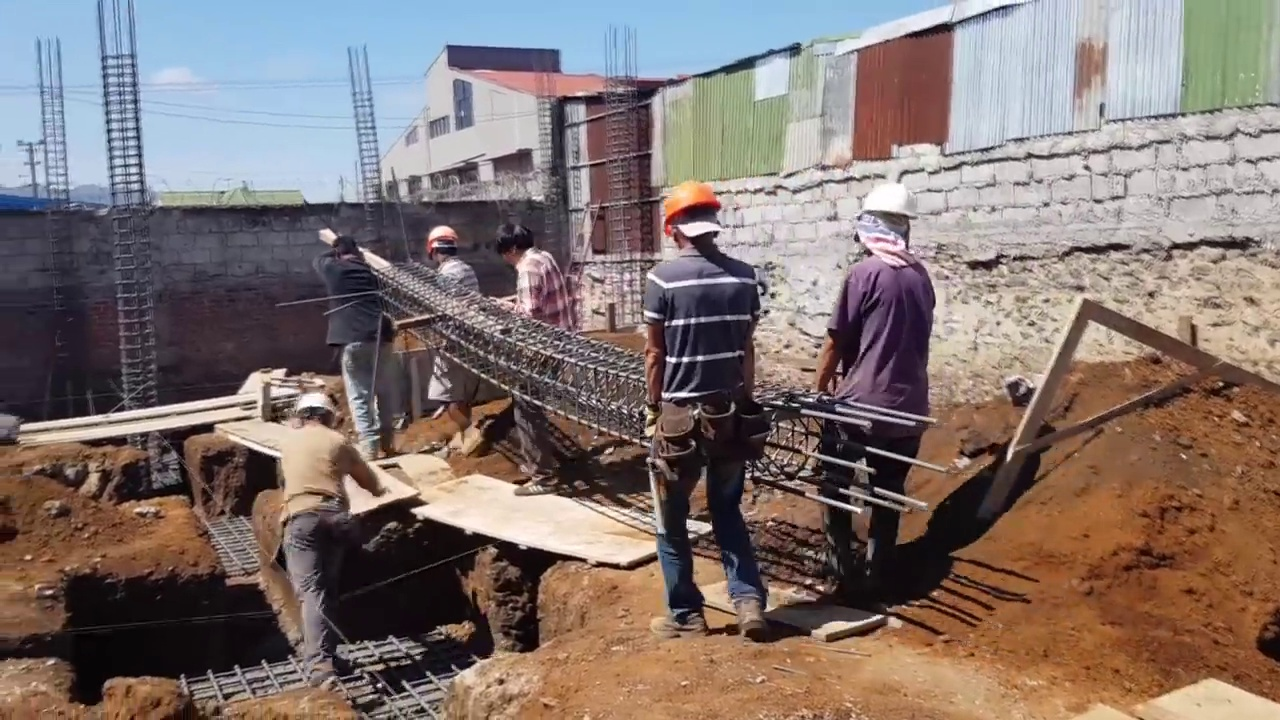helmet: (663, 182, 724, 238), (857, 184, 919, 222), (293, 391, 341, 421), (424, 223, 455, 251)
helmet-off: (487, 218, 535, 265), (330, 235, 373, 269)
helmet-on: (855, 183, 920, 264), (665, 183, 725, 259), (291, 390, 341, 431), (425, 221, 461, 269)
person: (638, 174, 769, 643), (813, 178, 942, 635), (280, 389, 386, 692), (486, 220, 576, 497), (313, 237, 398, 461), (425, 221, 483, 458)
